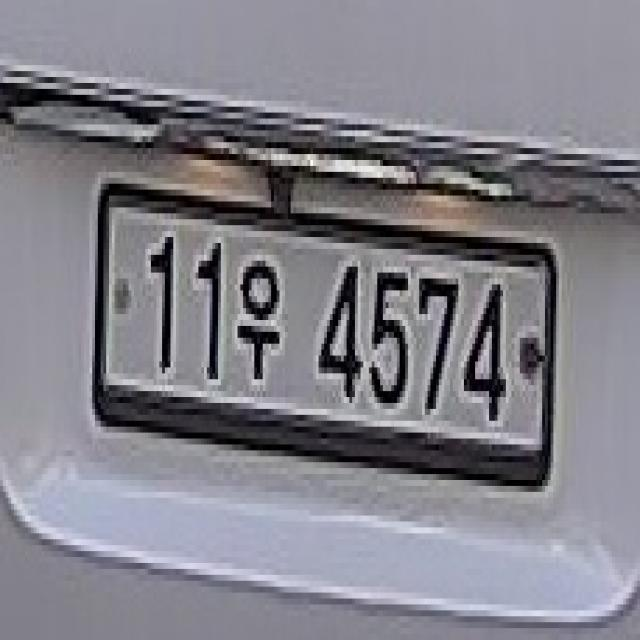1: (193, 236, 226, 387), (150, 231, 182, 381)
4: (314, 256, 368, 408), (466, 278, 512, 422)
5: (371, 263, 414, 412)
7: (418, 275, 463, 422)
license_plate: (87, 173, 564, 502)
u: (237, 256, 284, 390)
